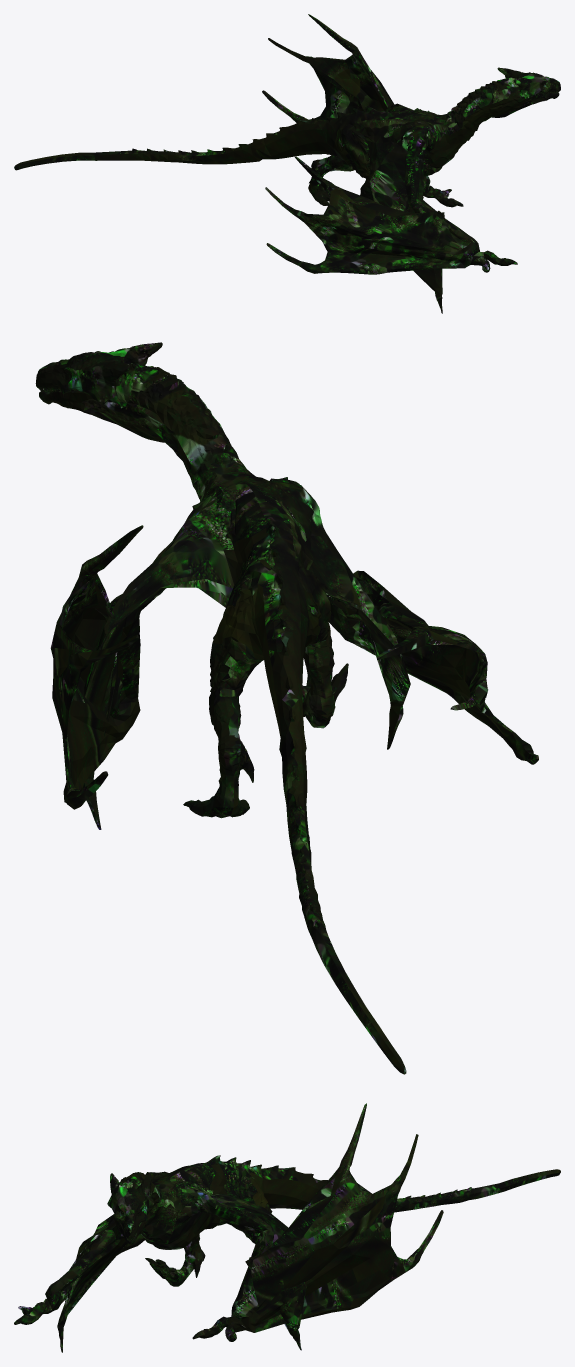
Rendered from frame_0022_uv.obj.
3 views of the same model, one above another, from view 1: azimuth 30°, elevation 25°; view 2: azimuth 150°, elevation 25°; view 3: azimuth 270°, elevation 25° (orthographic). The views are drawn at different scales.
Visible parts, largest first — view 1: pMesh1; view 2: pMesh1; view 3: pMesh1.
Part boxes in pixels (<box>): pMesh1: <box>14,14,560,313</box>; pMesh1: <box>35,342,538,1074</box>; pMesh1: <box>14,1103,560,1352</box>.
Bounding box in the file's own units: 1.61 × 0.8707 × 1.75.
